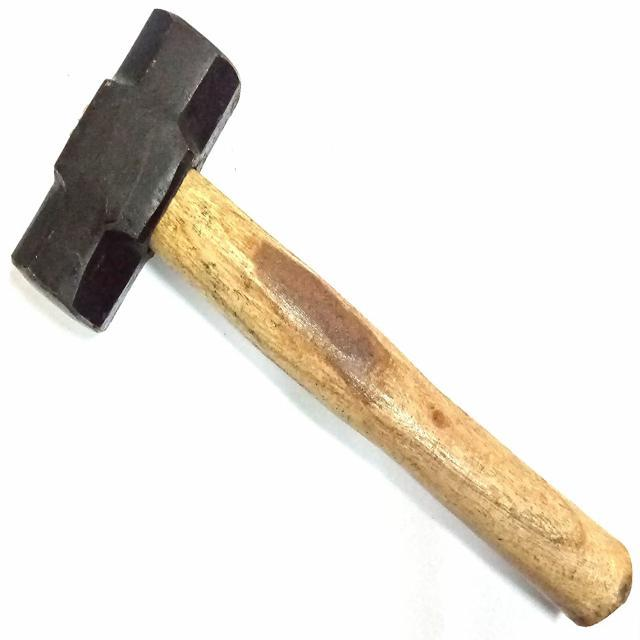hammer: (7, 3, 640, 634)
